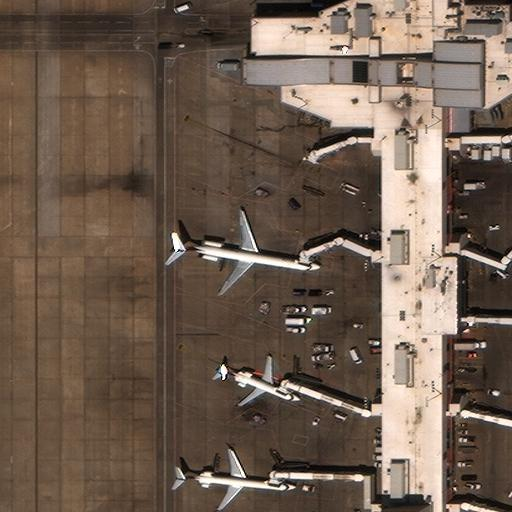Medium Civil Transport: (169, 210, 324, 296), (173, 449, 300, 510), (214, 356, 301, 407)
